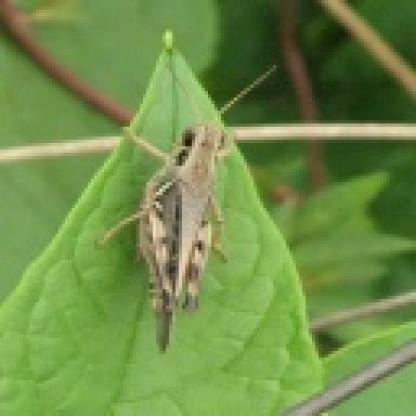grasshopper: (118, 91, 246, 335)
